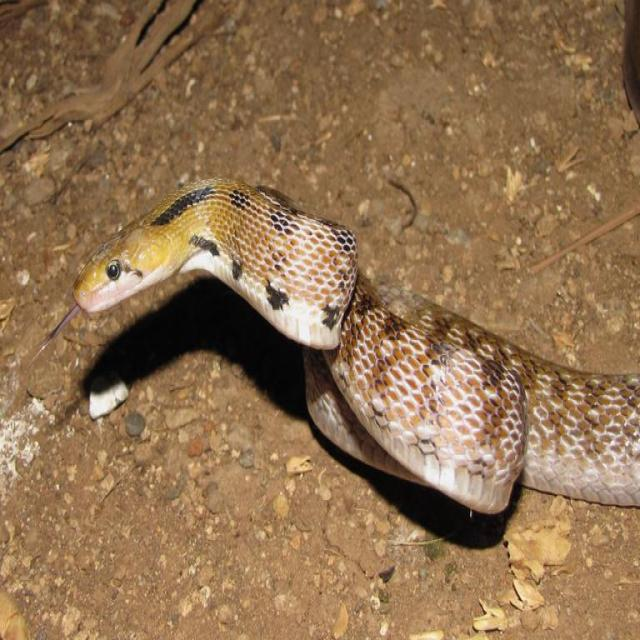Snake: (49, 174, 638, 516)
